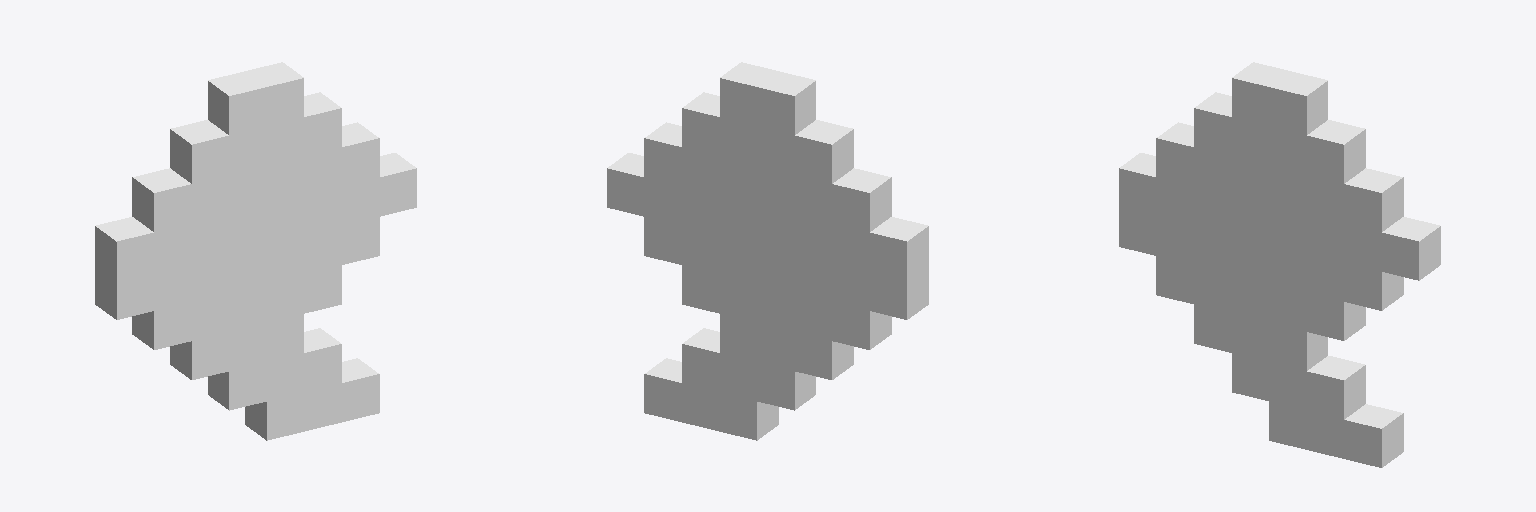
File: CaveShroom.obj
3 views of the same model, side by side, from view 1: azimuth 30°, elevation 25°; view 2: azimuth 150°, elevation 25°; view 3: azimuth 330°, elevation 25° (orthographic).
Visible parts, largest first — view 1: CaveShroom; view 2: CaveShroom; view 3: CaveShroom.
Part boxes in pixels (x1,y1,x2,y2): CaveShroom: (95, 62, 416, 440); CaveShroom: (607, 62, 928, 440); CaveShroom: (1119, 62, 1440, 467).
Size of the model in its own units: 8 by 9 by 1.